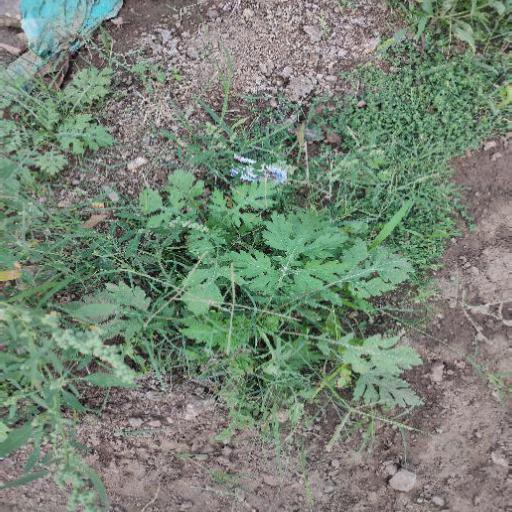weed: (51, 124, 426, 414)
